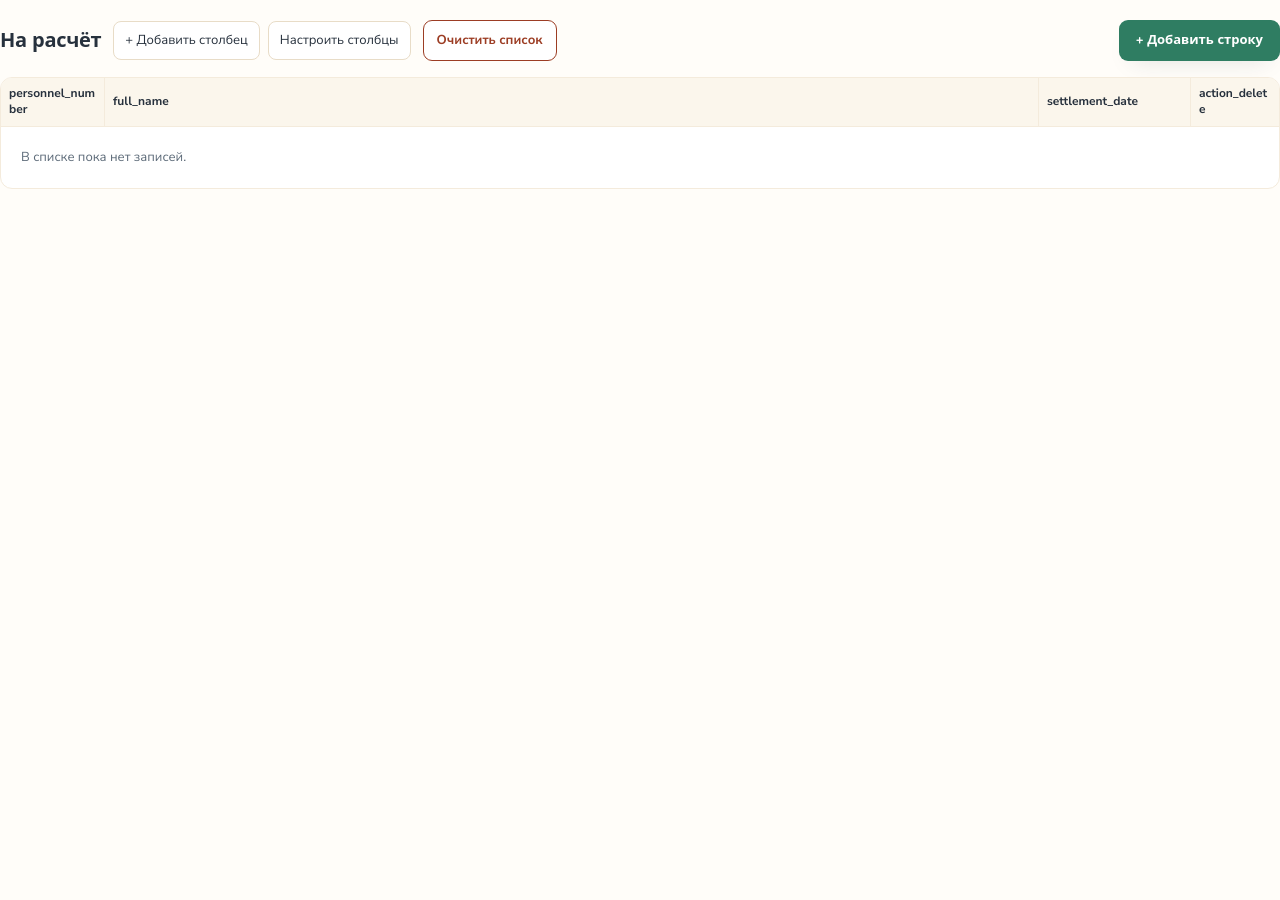
it: Выплаты › разрешает очистить расчёты за все даты, даже если выбранный период пустой
The image size is (1280, 900).
Check: the text "В списке пока нет записей." is shown, box [21,148,186,166]
What coordinates should you click on to do the following:
click the button "Очистить список"
I would click on:
 (490, 41)
Its box is [423,20,557,61].
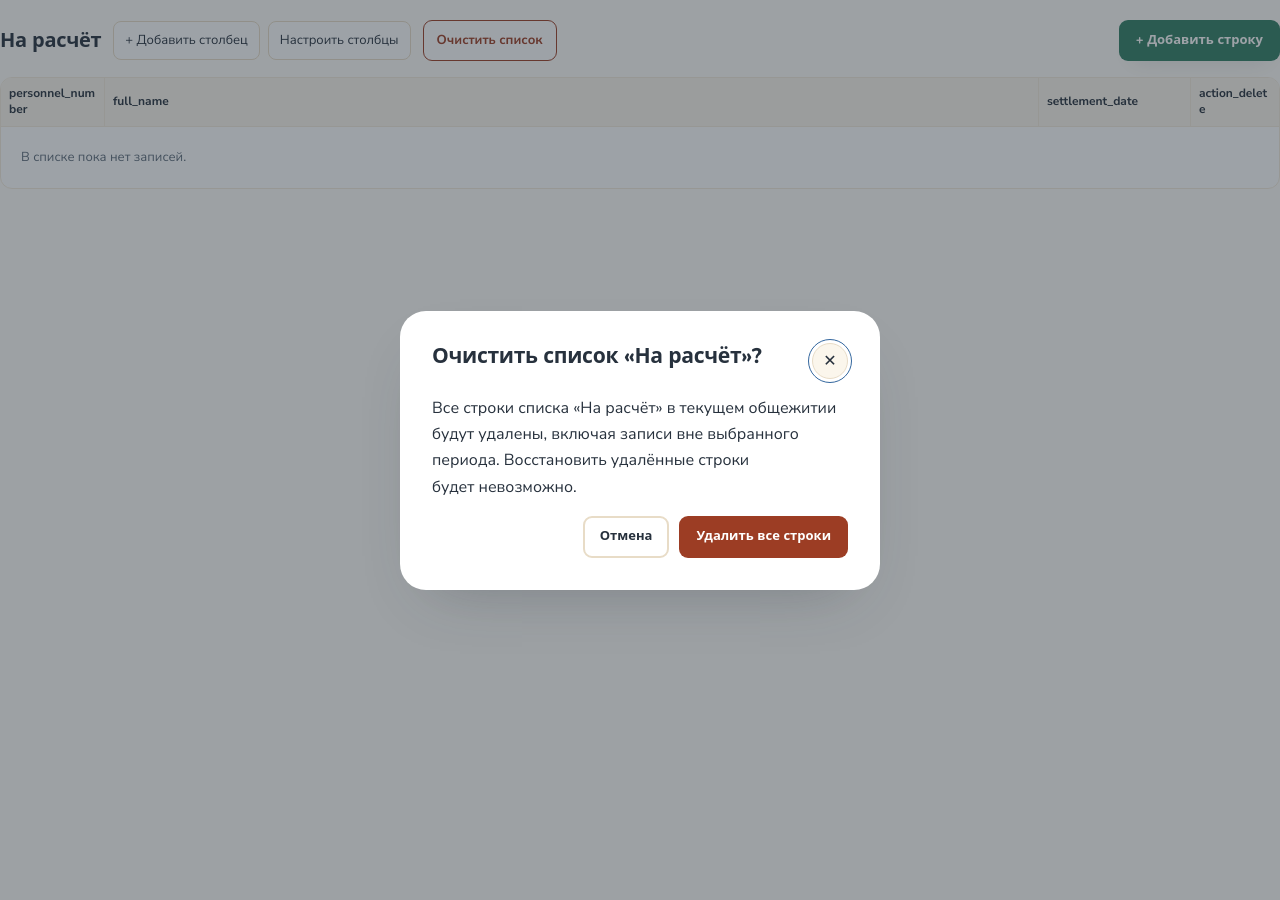
What coordinates should you click on to do the following:
click the button "Удалить все строки"
I would click on:
 (764, 537)
Its box is [679,516,848,558].
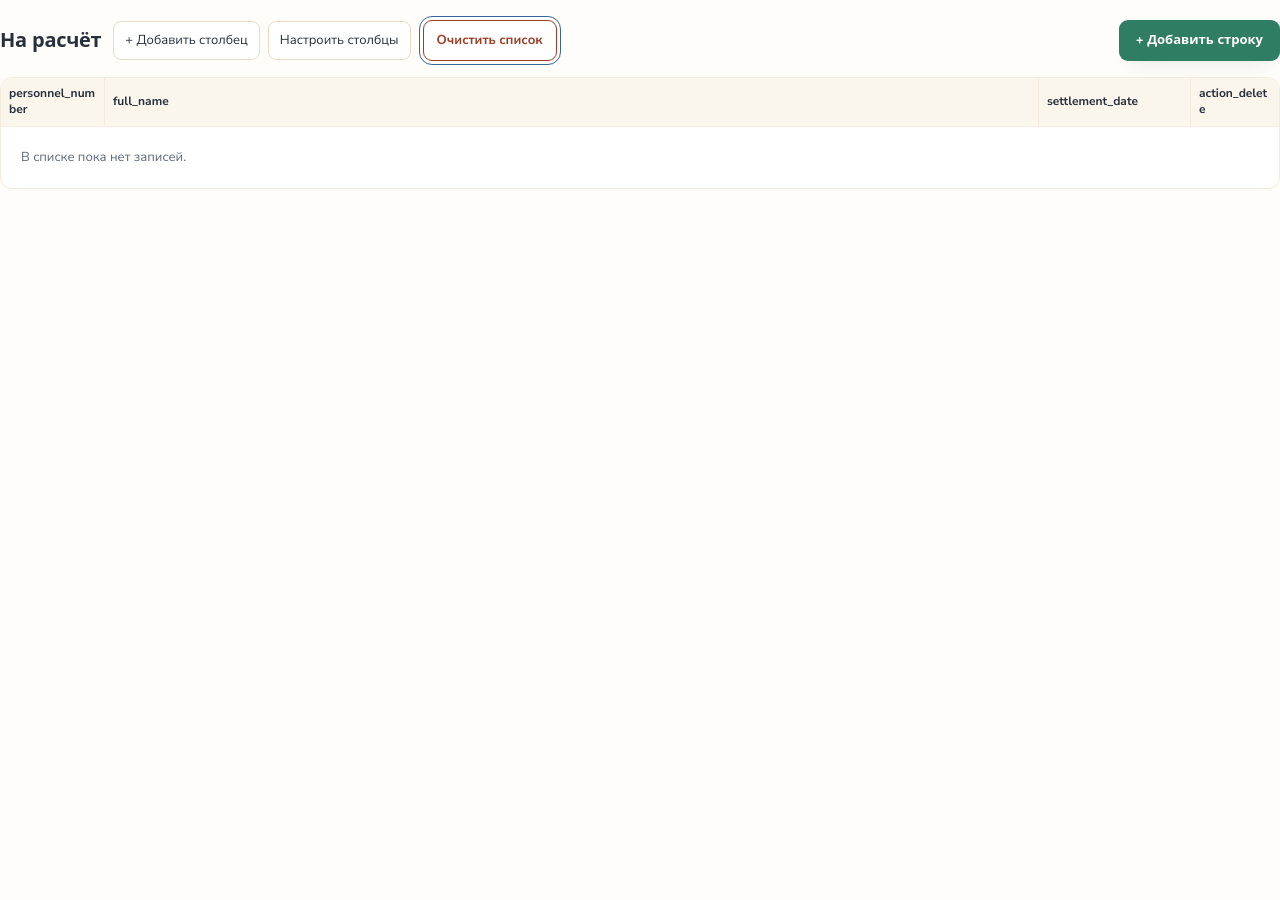
Check: the dialog is gone
